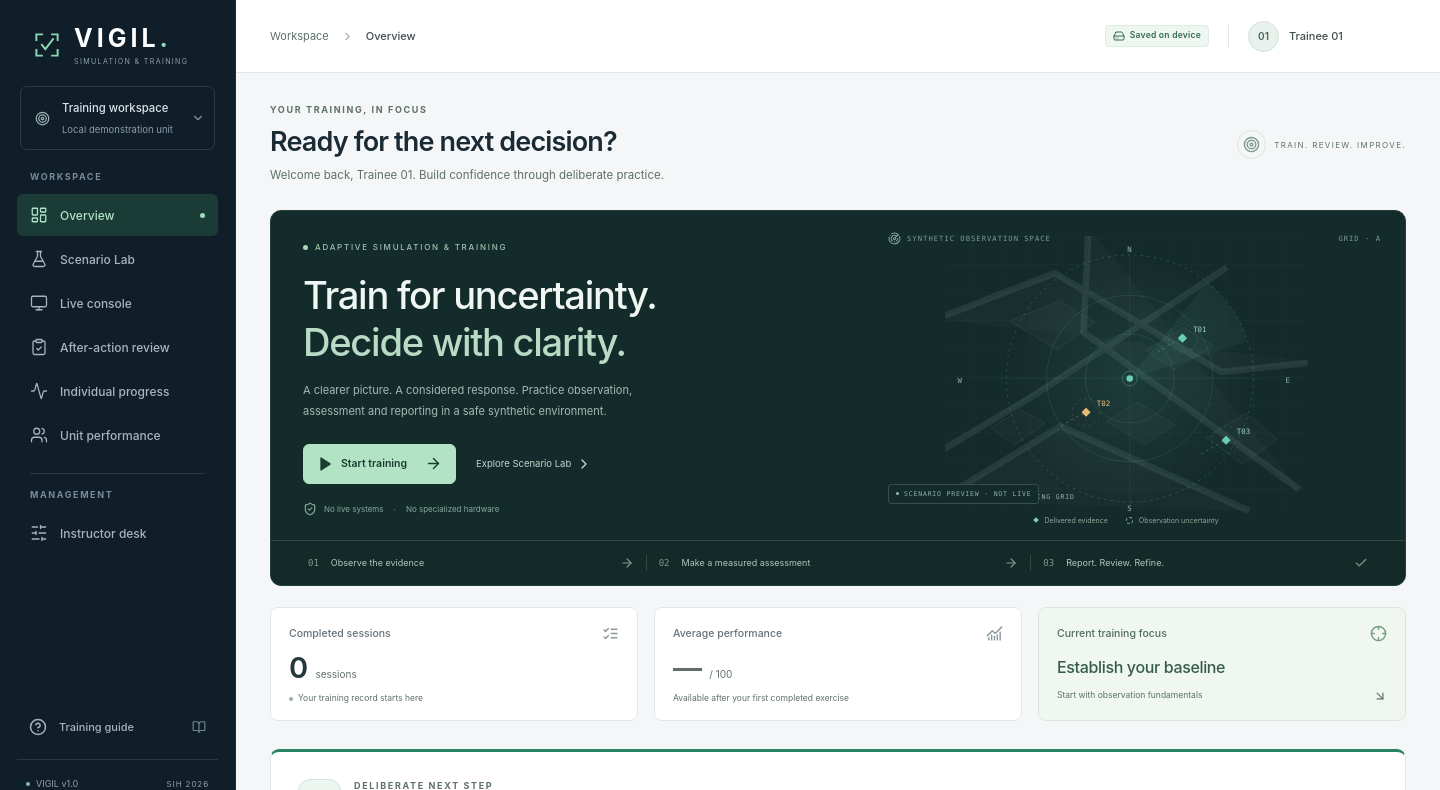
Phase 1 navigation and foundation › navigates to After-action review and marks the active navigation item
Click the button "After-action review": (118, 347) [17,326,218,368]
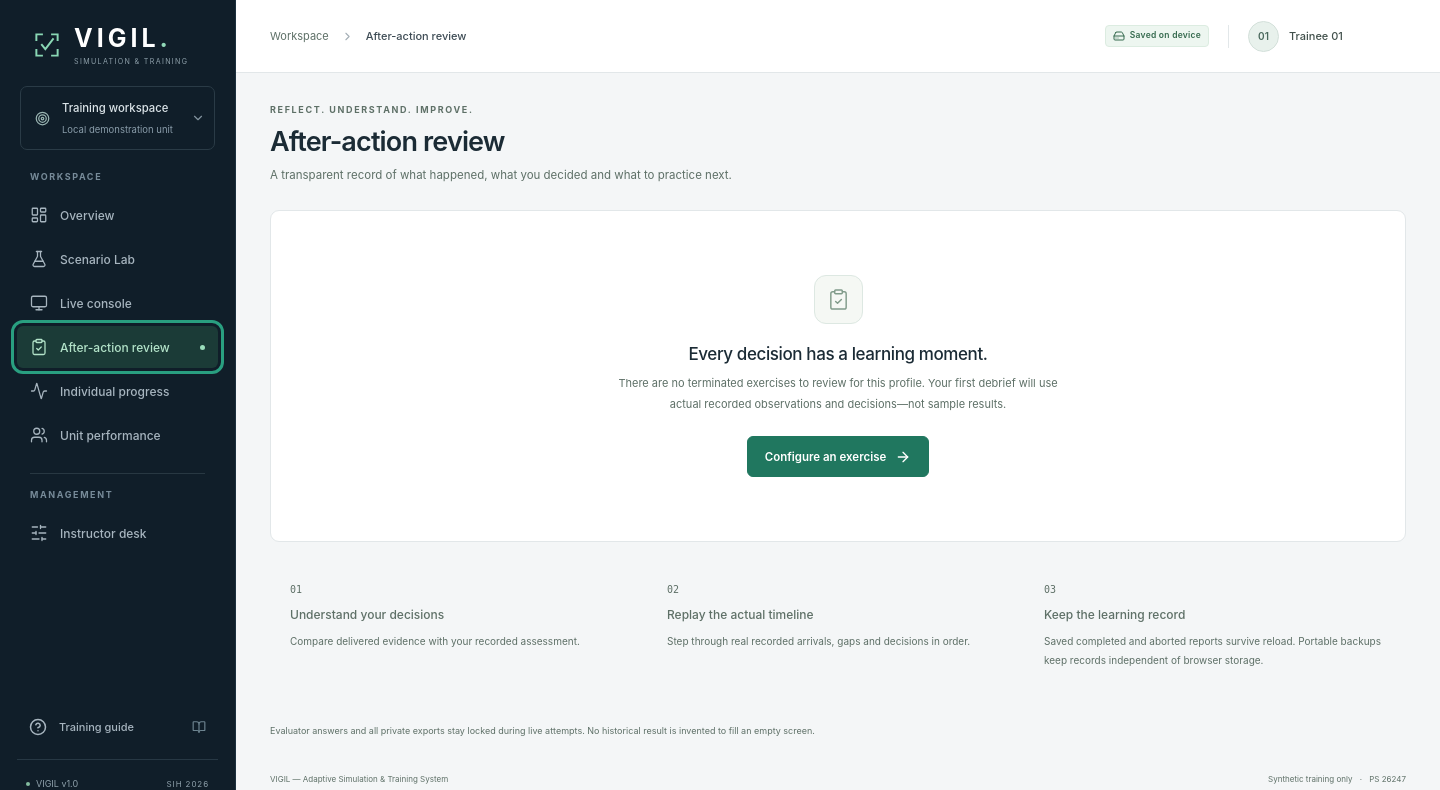
expect the heading "After-action review" is shown: met, box [270,125,505,158]
